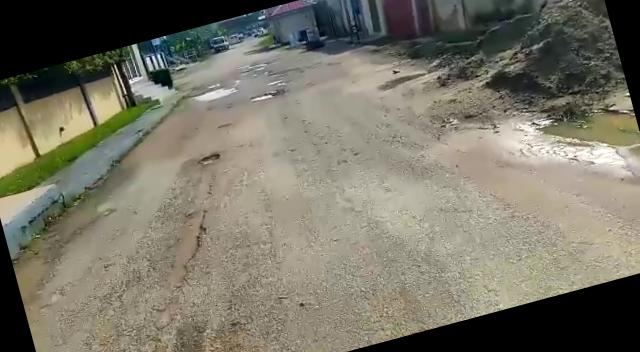pothole: (184, 83, 240, 107), (250, 88, 281, 102), (198, 151, 222, 165)
